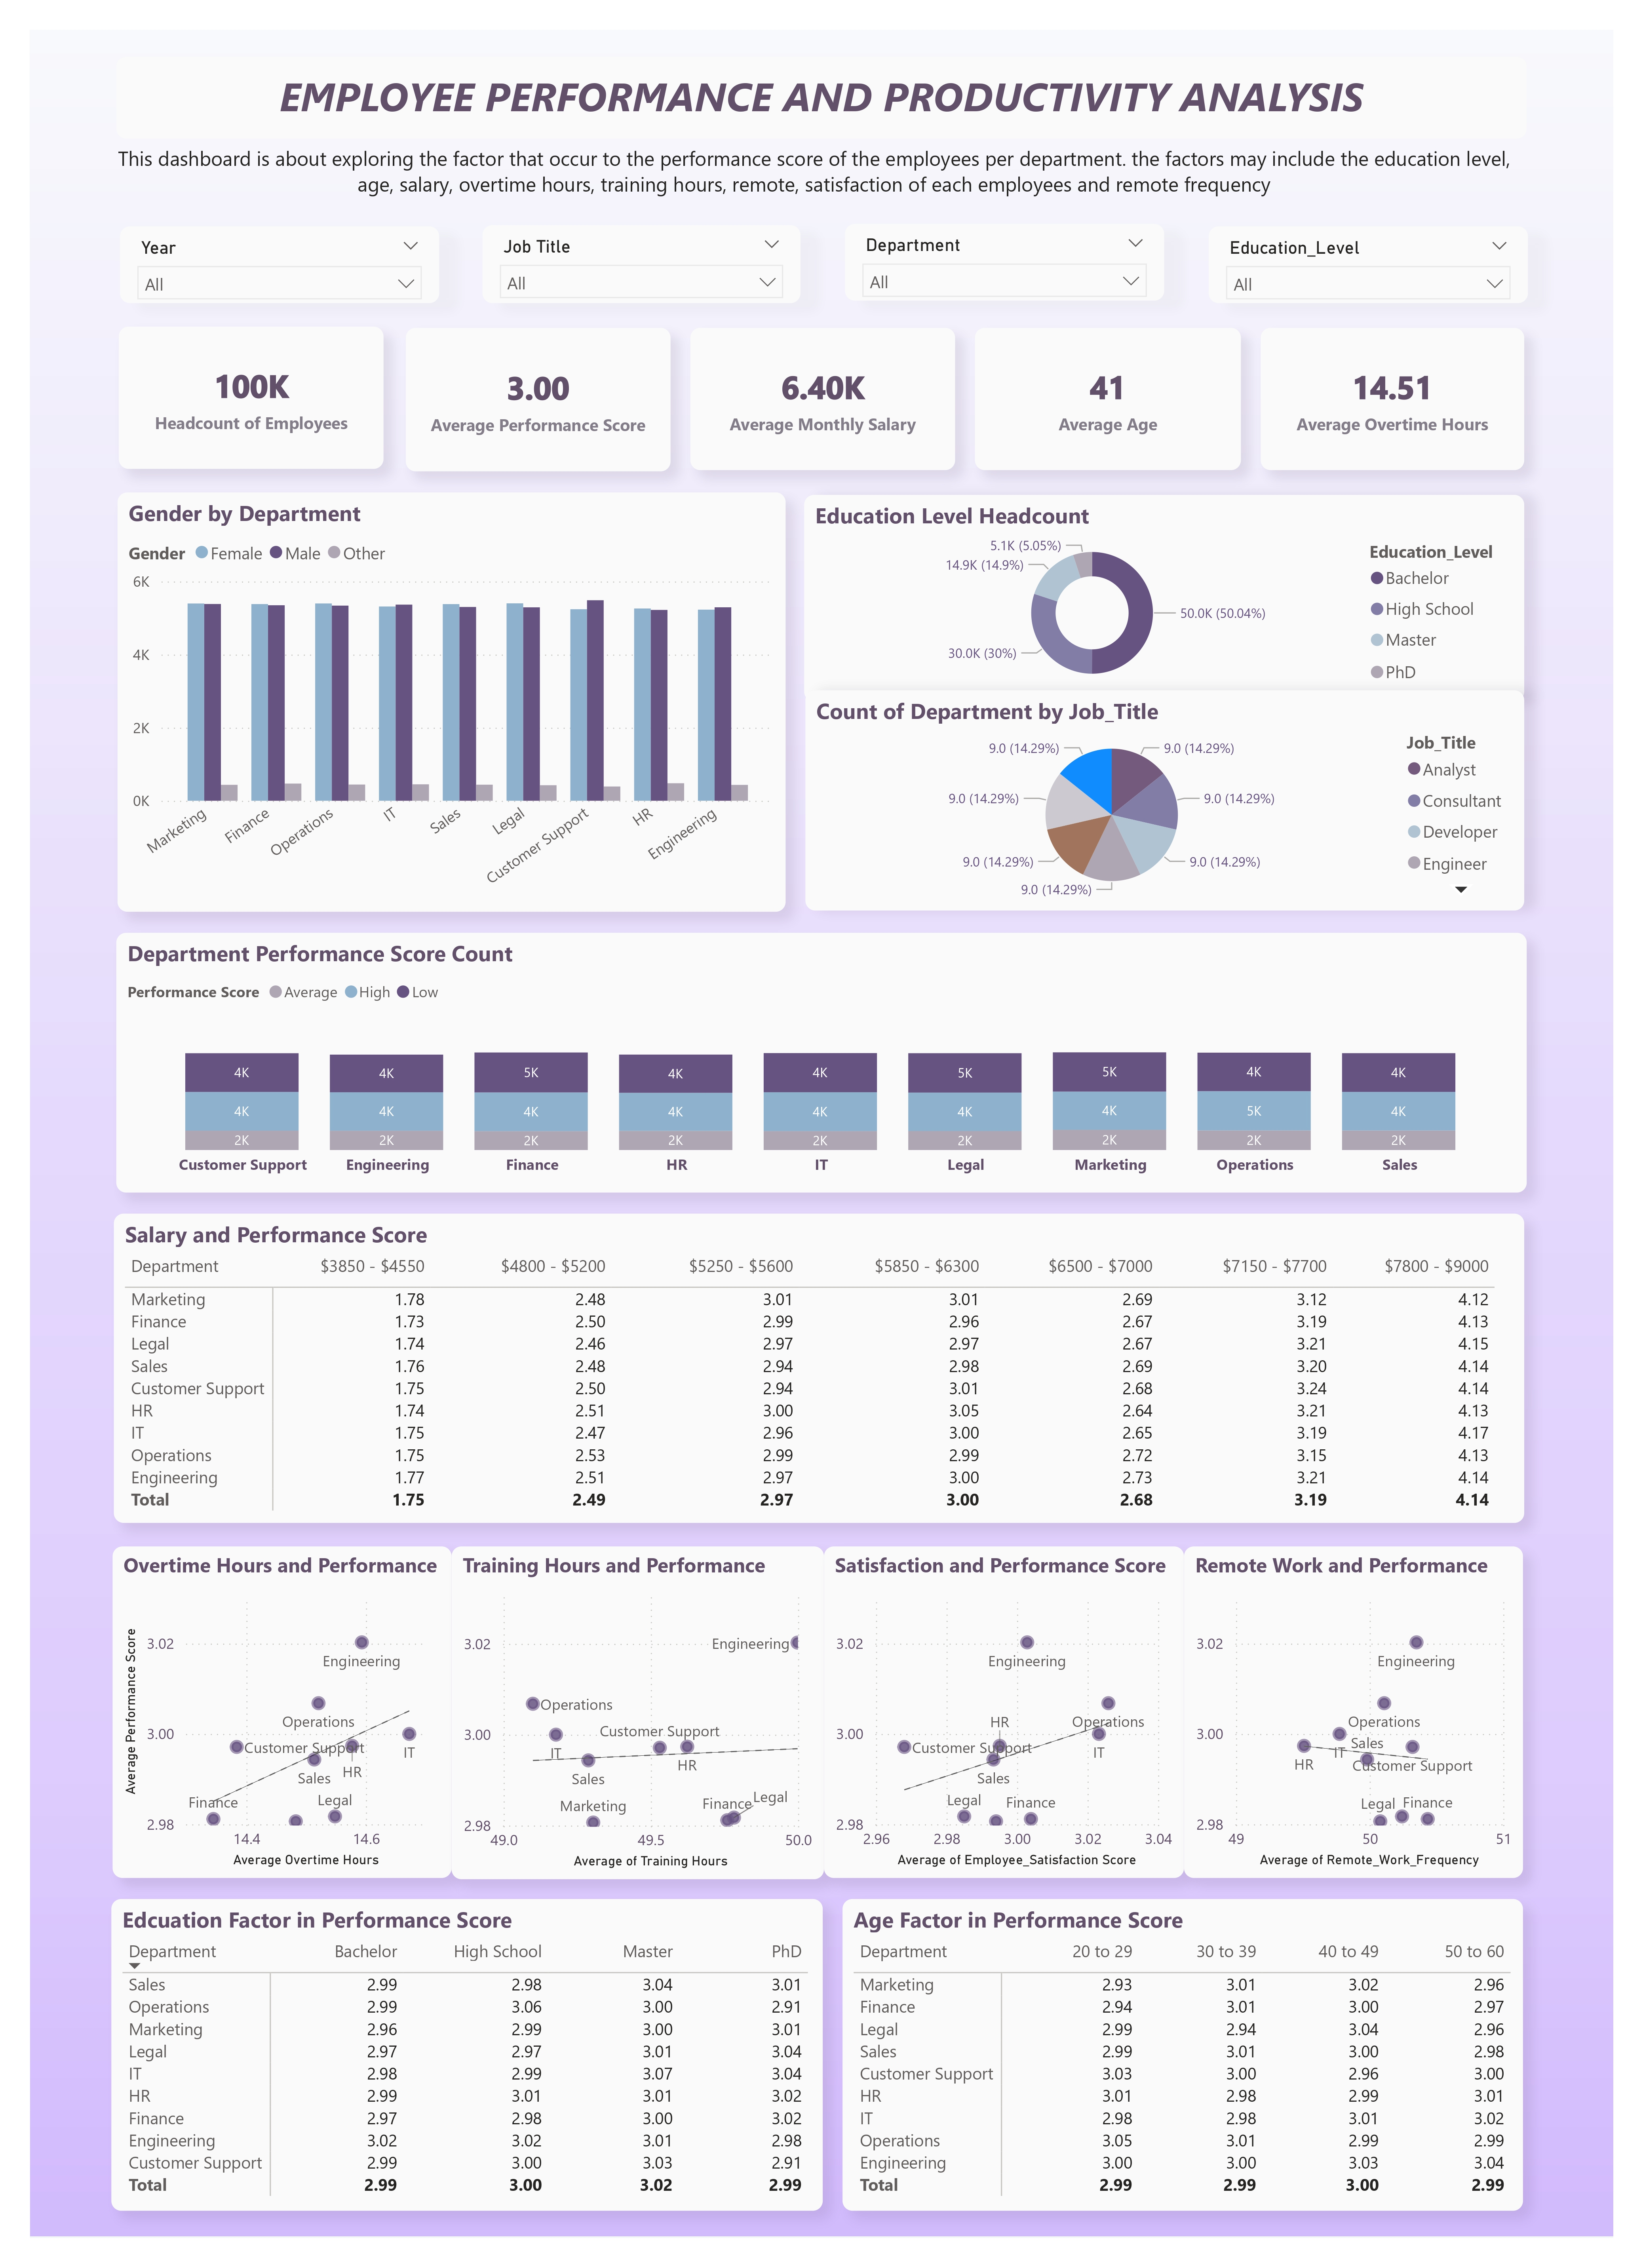

Layout of this report page (visuals, bound fields, positions):
{"tool":"powerbi","page":{"name":"Dashboard","canvas":[1280,1785],"ordinal":1},"visuals":[{"type":"donutChart","title":"Education Level Headcount","fields":{"Y":["_Measure.TotalEmp"],"Category":["fHRData.Education_Level"]},"box":[626.2,376.1,581.4,167.1],"z":0},{"type":"textbox","box":[65,88.3,1138.3,66.7],"z":1000},{"type":"card","fields":{"Values":["_Measure.TotalEmp"]},"box":[71.9,240.1,214.3,115],"z":2000},{"type":"card","fields":{"Values":["Avg(fHRData.Performance_Score)"]},"box":[304.5,240.7,213.8,116.2],"z":3000},{"type":"card","fields":{"Values":["Avg(fHRData.Monthly_Salary)"]},"box":[534.5,240.7,213.8,115],"z":4000},{"type":"card","fields":{"Values":["Avg(fHRData.Age)"]},"box":[764.5,240.7,215,115],"z":5000},{"type":"card","fields":{"Values":["Avg(fHRData.Overtime_Hours)"]},"box":[994.8,240.6,213.3,115],"z":6000},{"type":"clusteredColumnChart","title":"Gender by Department","fields":{"Y":["_Measure.TotalEmp"],"Category":["dDepartment.Department"],"Series":["fHRData.Gender"]},"box":[71.4,373.9,540,338.9],"z":7000},{"type":"columnChart","title":"Department Performance Score Count","fields":{"Category":["dDepartment.Department"],"Series":["fHRData.Performance_Score_Category"],"Y":["_Measure.TotalEmp"]},"box":[69.7,729.6,1140,210],"z":8000},{"type":"pieChart","fields":{"Y":["CountNonNull(dDepartment.Department)"],"Category":["fHRData.Job_Title"]},"box":[627.1,533.7,581.1,177.8],"z":9000},{"type":"pivotTable","title":"Salary and Performance Score","fields":{"Rows":["dDepartment.Department"],"Columns":["fHRData.Salary_Range"],"Values":["Avg(fHRData.Performance_Score)"]},"box":[68.2,956.9,1140,250],"z":10000},{"type":"scatterChart","title":"Overtime Hours and Performance","fields":{"X":["Avg(fHRData.Overtime_Hours)"],"Y":["Avg(fHRData.Performance_Score)"],"Category":["dDepartment.Department"]},"box":[67.2,1226.2,274,268],"z":11000},{"type":"scatterChart","title":"Training Hours and Performance ","fields":{"X":["Avg(fHRData.Training_Hours)"],"Y":["Avg(fHRData.Performance_Score)"],"Category":["dDepartment.Department"]},"box":[340.9,1226.4,300.9,268.2],"z":12000},{"type":"scatterChart","title":"Satisfaction and Performance Score","fields":{"X":["Avg(fHRData.Employee_Satisfaction_Score)"],"Category":["dDepartment.Department"],"Y":["Avg(fHRData.Performance_Score)"]},"box":[642,1225.7,291.2,268.8],"z":13000},{"type":"scatterChart","title":"Remote Work and Performance ","fields":{"Category":["dDepartment.Department"],"Y":["Avg(fHRData.Performance_Score)"],"X":["Avg(fHRData.Remote_Work_Frequency)"]},"box":[933.2,1225.7,273.8,268.8],"z":14000},{"type":"pivotTable","title":"Edcuation Factor in Performance Score","fields":{"Columns":["fHRData.Education_Level"],"Rows":["dDepartment.Department"],"Values":["Avg(fHRData.Performance_Score)"]},"box":[65.7,1510.7,575,252.5],"z":15000},{"type":"pivotTable","title":"Age Factor in Performance Score","fields":{"Rows":["dDepartment.Department"],"Values":["Avg(fHRData.Performance_Score)"],"Columns":["fHRData.Age_Category"]},"box":[657,1510.7,550,252.5],"z":16000},{"type":"slicer","fields":{"Values":["fHRData.Job_Title"]},"box":[366.3,158.4,256.2,62.5],"z":17000},{"type":"slicer","fields":{"Values":["dDepartment.Department"]},"box":[659.1,157.2,258,62],"z":18000},{"type":"slicer","fields":{"Values":["fHRData.Education_Level"]},"box":[953.1,159.2,258,62],"z":19000},{"type":"slicer","fields":{"Values":["fHRData.Hire_Date.Variation.Date Hierarchy.Year"]},"box":[73.3,159,257.3,61.8],"z":20000},{"type":"textbox","box":[70,22,1140,66],"z":21000}]}

Visuals, with their boxes in screenshot pixels (x1, y1, x2, y2):
"Education Level Headcount" donutChart: [left=804, top=495, right=1524, bottom=702]
textbox: [left=110, top=139, right=1518, bottom=221]
card - _Measure.TotalEmp: [left=119, top=327, right=384, bottom=469]
card - Avg(fHRData.Performance_Score): [left=407, top=327, right=671, bottom=471]
card - Avg(fHRData.Monthly_Salary): [left=691, top=327, right=955, bottom=470]
card - Avg(fHRData.Age): [left=976, top=327, right=1242, bottom=470]
card - Avg(fHRData.Overtime_Hours): [left=1261, top=327, right=1524, bottom=470]
"Gender by Department" clusteredColumnChart: [left=118, top=492, right=786, bottom=912]
"Department Performance Score Count" columnChart: [left=116, top=932, right=1526, bottom=1192]
pieChart - CountNonNull(dDepartment.Department) x fHRData.Job_Title: [left=806, top=690, right=1525, bottom=910]
"Salary and Performance Score" pivotTable: [left=114, top=1214, right=1525, bottom=1523]
"Overtime Hours and Performance" scatterChart: [left=113, top=1547, right=452, bottom=1878]
"Training Hours and Performance " scatterChart: [left=451, top=1547, right=824, bottom=1879]
"Satisfaction and Performance Score" scatterChart: [left=824, top=1546, right=1184, bottom=1879]
"Remote Work and Performance " scatterChart: [left=1184, top=1546, right=1523, bottom=1879]
"Edcuation Factor in Performance Score" pivotTable: [left=111, top=1899, right=822, bottom=2211]
"Age Factor in Performance Score" pivotTable: [left=842, top=1899, right=1523, bottom=2211]
slicer - fHRData.Job_Title: [left=483, top=226, right=800, bottom=303]
slicer - dDepartment.Department: [left=845, top=224, right=1164, bottom=301]
slicer - fHRData.Education_Level: [left=1209, top=227, right=1528, bottom=303]
slicer - fHRData.Hire_Date.Variation.Date Hierarchy.Year: [left=120, top=226, right=439, bottom=303]
textbox: [left=116, top=57, right=1527, bottom=139]
